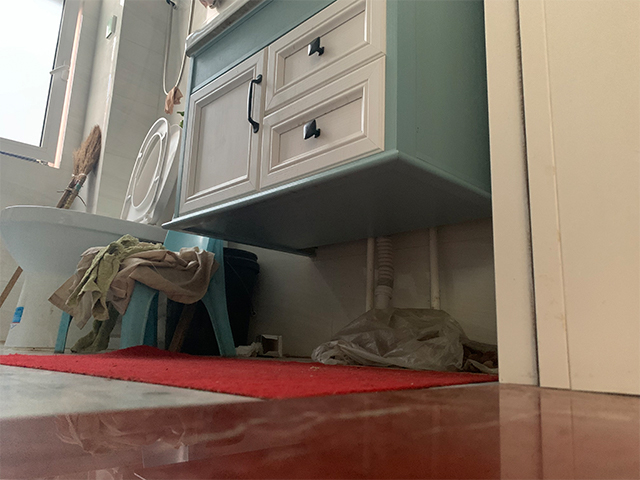carpet: (1, 343, 499, 403)
closestool: (1, 115, 186, 349)
stool: (47, 229, 241, 353)
